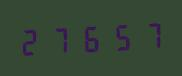five: (105, 19, 133, 53)
seven: (134, 17, 162, 52), (47, 22, 75, 56)
six: (76, 20, 104, 55)
two: (18, 23, 46, 58)
